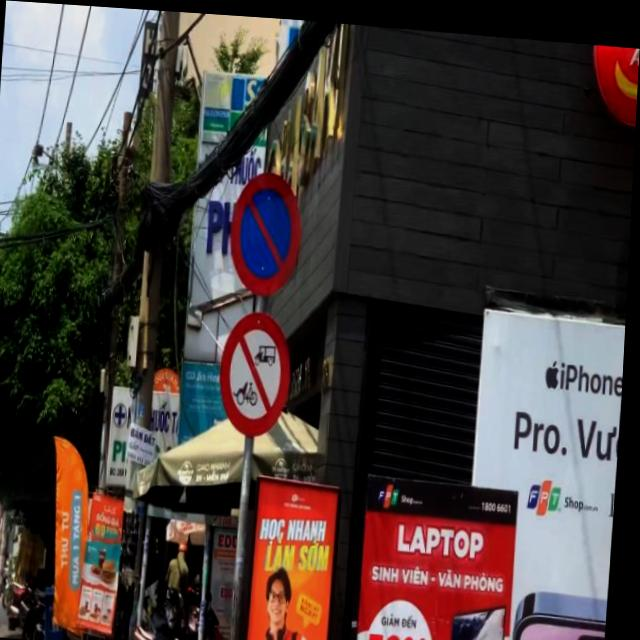Cam do xe: (229, 160, 309, 298)
